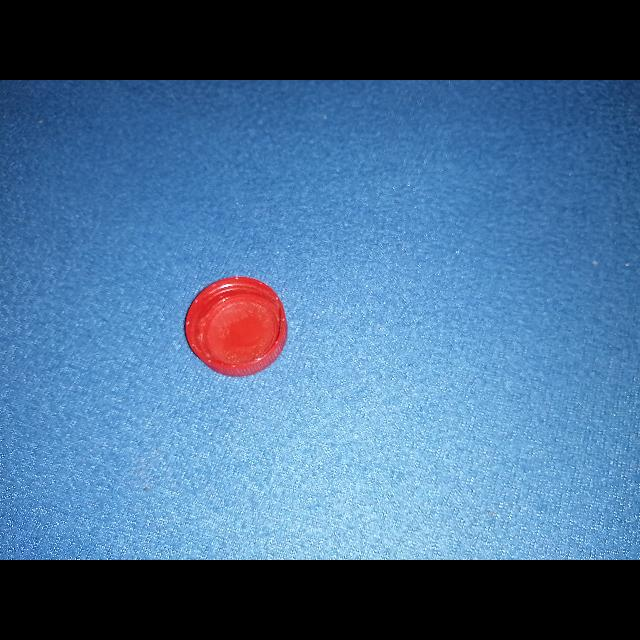plastic_bottle_cap: (185, 278, 288, 377)
